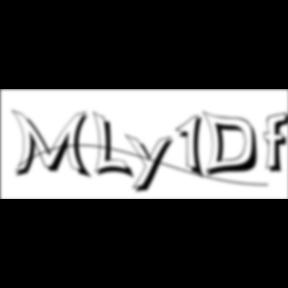1: (176, 114, 210, 182)
D: (202, 110, 266, 180)
L: (93, 110, 137, 182)
M: (11, 108, 95, 181)
y: (125, 132, 179, 196)
